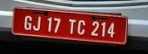1: (46, 16, 53, 32), (100, 21, 106, 37)
2: (90, 20, 99, 37)
4: (107, 21, 116, 38)
7: (52, 17, 61, 34)
C: (76, 19, 87, 35)
G: (23, 15, 32, 30)
J: (33, 16, 41, 31)
T: (68, 18, 76, 34)
